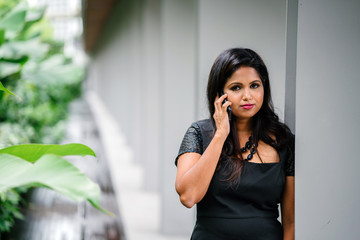phone: (214, 89, 236, 122)
talk: (213, 78, 267, 133)
